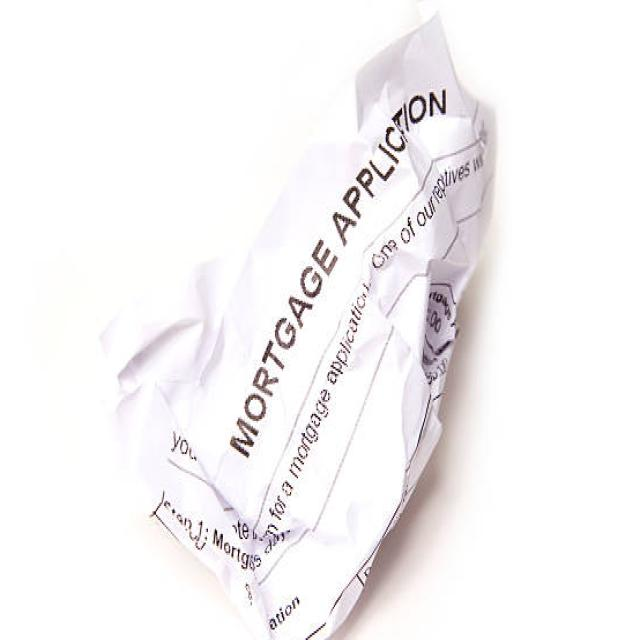electronic: (98, 1, 496, 640)
